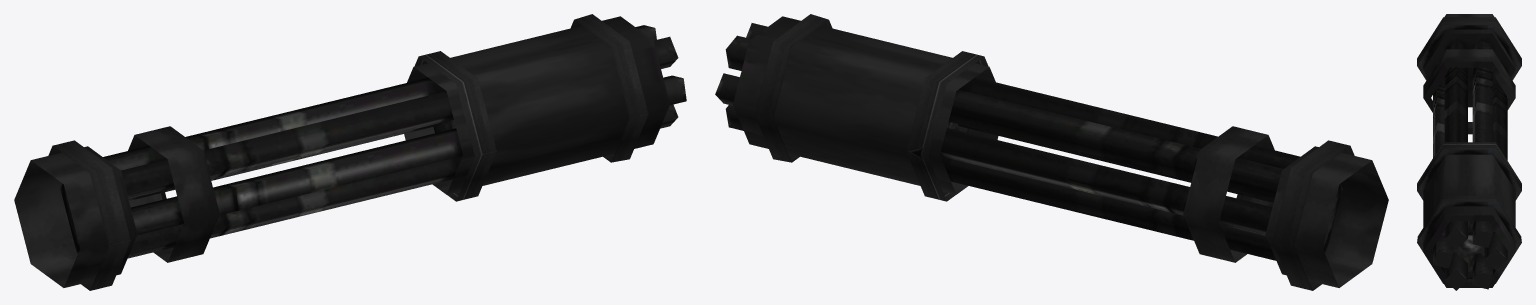
The model's file is veh_t6_drone_overwatch_dead_piece_1_LOD0.obj.
The picture shows the model from 3 angles, left to right: view 1: azimuth 30°, elevation 25°; view 2: azimuth 150°, elevation 25°; view 3: azimuth 270°, elevation 25°; orthographic projection. The views are drawn at different scales.
Parts seen in each view (by area): view 1: mtl_drone_overwatch_body_dark; view 2: mtl_drone_overwatch_body_dark; view 3: mtl_drone_overwatch_body_dark.
Boxes of the visible parts, bbox=[...] form: mtl_drone_overwatch_body_dark: bbox=[14, 14, 686, 290]; mtl_drone_overwatch_body_dark: bbox=[715, 14, 1388, 290]; mtl_drone_overwatch_body_dark: bbox=[1417, 14, 1521, 290].
Bounding box in the file's own units: 50.17 × 9.21 × 10.63.
